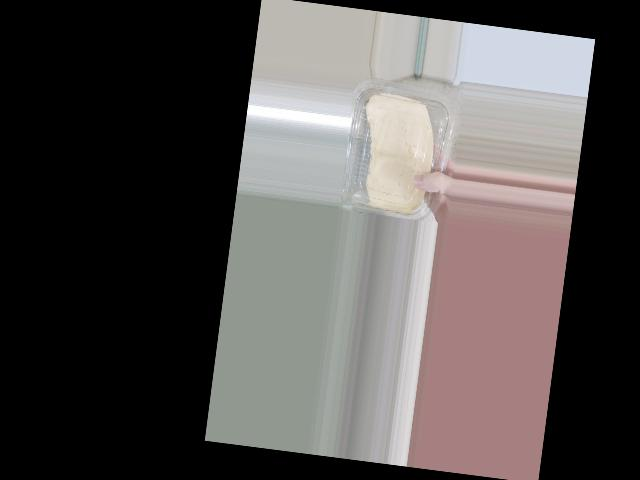cheese: (337, 76, 447, 223)
